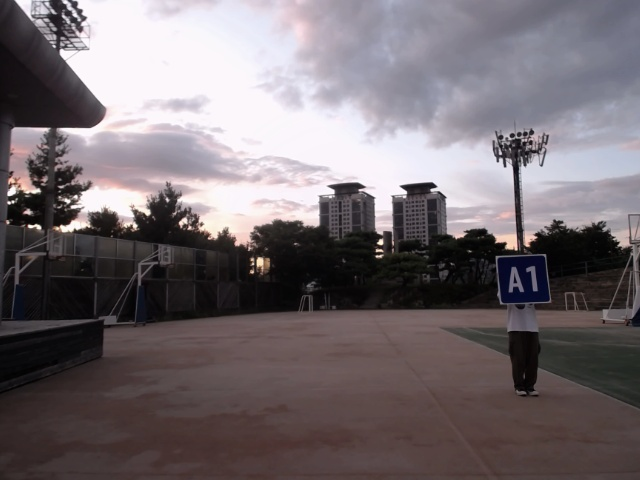delivery_a1: (496, 255, 551, 304)
